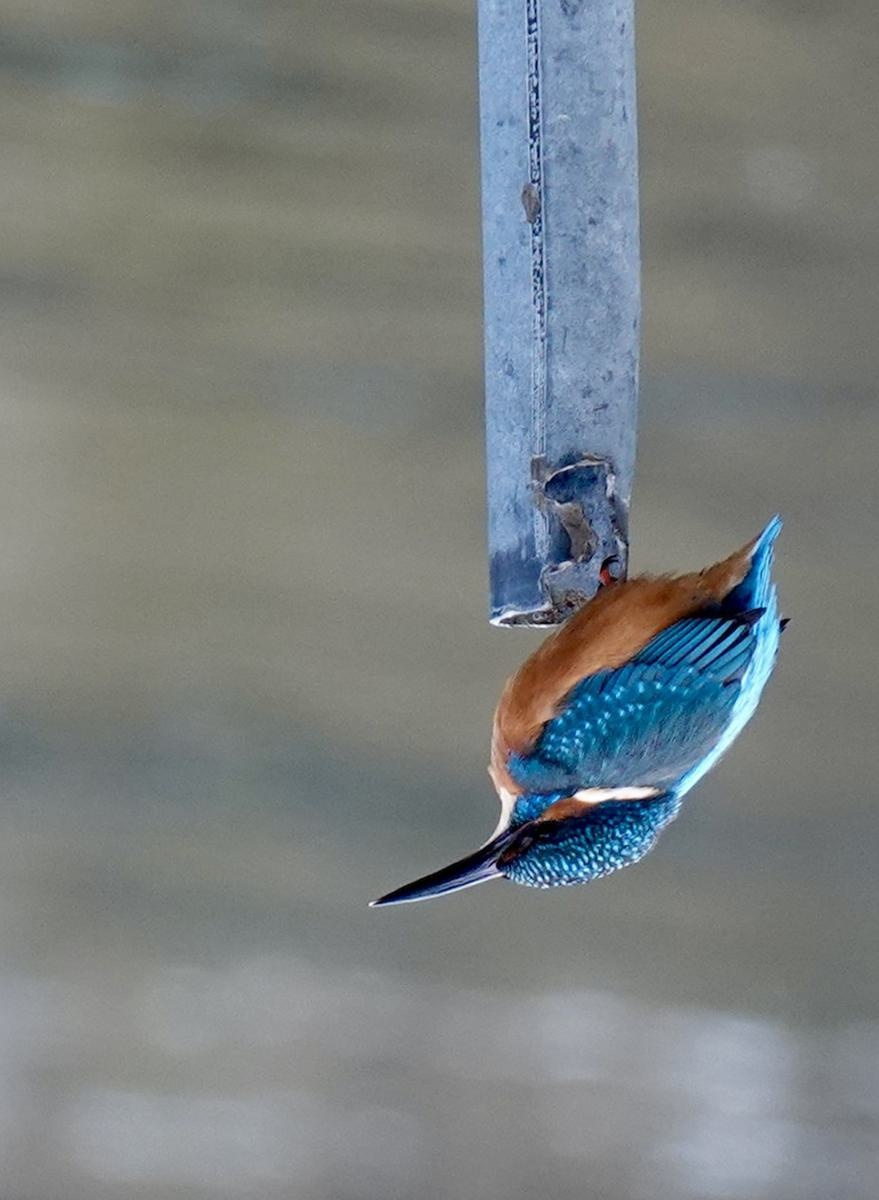kingfisher: (354, 495, 795, 953)
